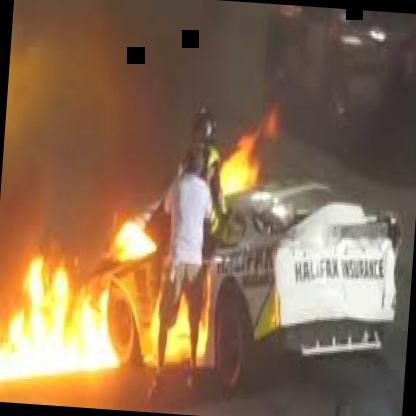fire: (0, 210, 147, 405)
